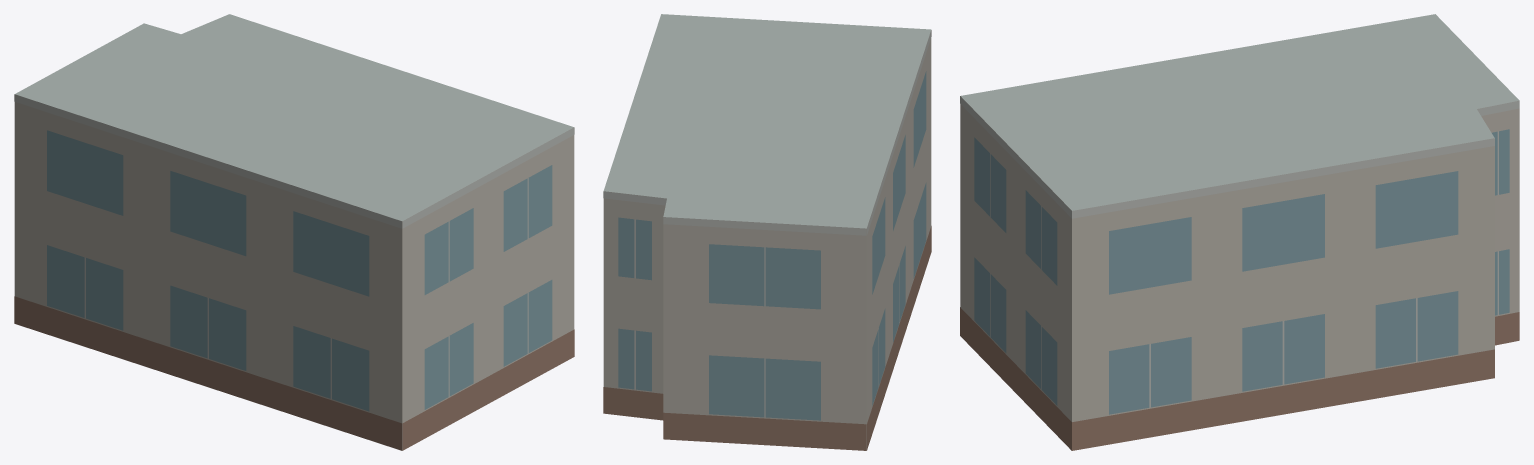
File: survey-upis-32926582.glb
3 views of the same model, side by side, from view 1: azimuth 30°, elevation 25°; view 2: azimuth 150°, elevation 25°; view 3: azimuth 270°, elevation 25° (orthographic). The views are drawn at different scales.
Visible parts, largest first — view 1: survey-upis-32926582.tmp; view 2: survey-upis-32926582.tmp; view 3: survey-upis-32926582.tmp.
Part boxes in pixels (left/top/right/bottom): survey-upis-32926582.tmp: left=14, top=14, right=574, bottom=450; survey-upis-32926582.tmp: left=603, top=14, right=931, bottom=450; survey-upis-32926582.tmp: left=960, top=14, right=1519, bottom=450.
Size of the model in its own units: 13.21 by 7.5 by 15.86.
